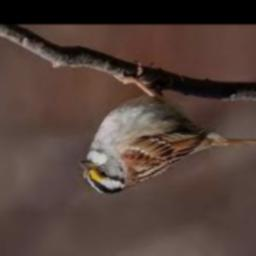Sparrow: (78, 62, 256, 194)
